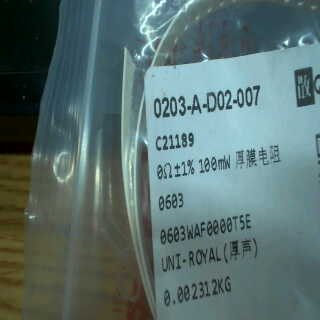0R: (153, 150, 232, 212)
